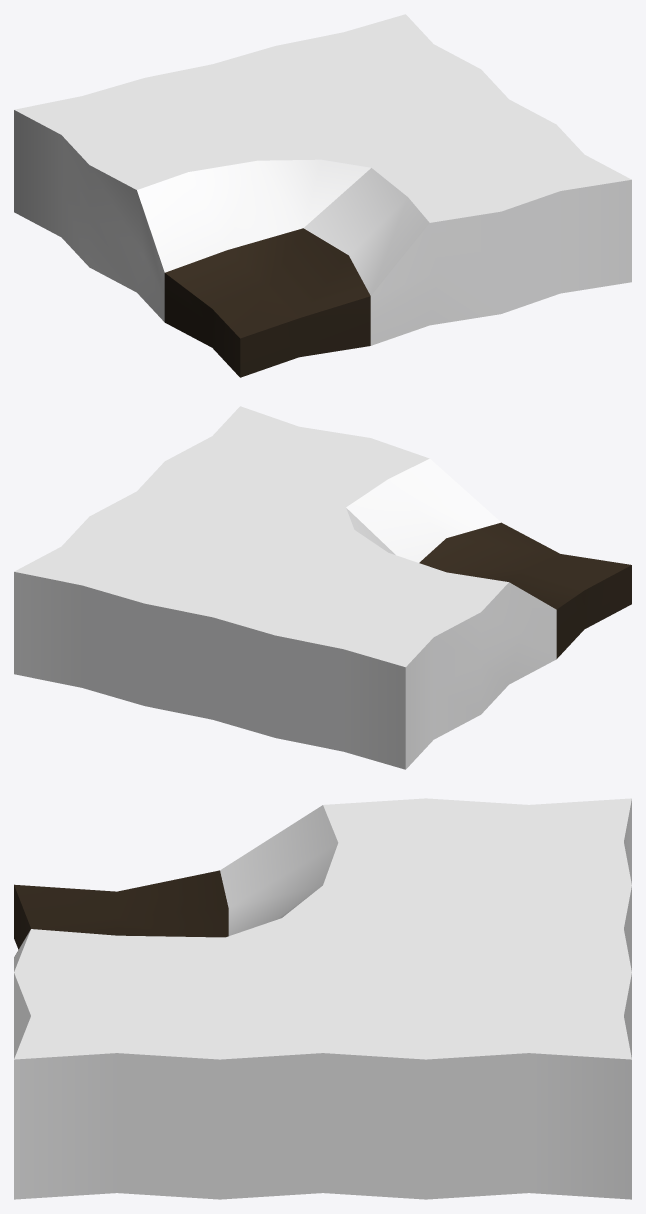
File: jaggeredTile-15a_col.fbx
3 renders of one model, top to bottom at view 1: azimuth 30°, elevation 25°; view 2: azimuth 150°, elevation 25°; view 3: azimuth 270°, elevation 25°, orthographic. The views are drawn at different scales.
Visible parts, largest first — view 1: jaggeredTile-15a.col; view 2: jaggeredTile-15a.col; view 3: jaggeredTile-15a.col.
Part boxes in pixels (x1,y1,x2,y2): jaggeredTile-15a.col: (14, 14, 631, 377); jaggeredTile-15a.col: (14, 406, 631, 769); jaggeredTile-15a.col: (14, 798, 631, 1199).
Bounding box in the file's own units: 2 × 0.5 × 2.
1 material, 1 textured.
